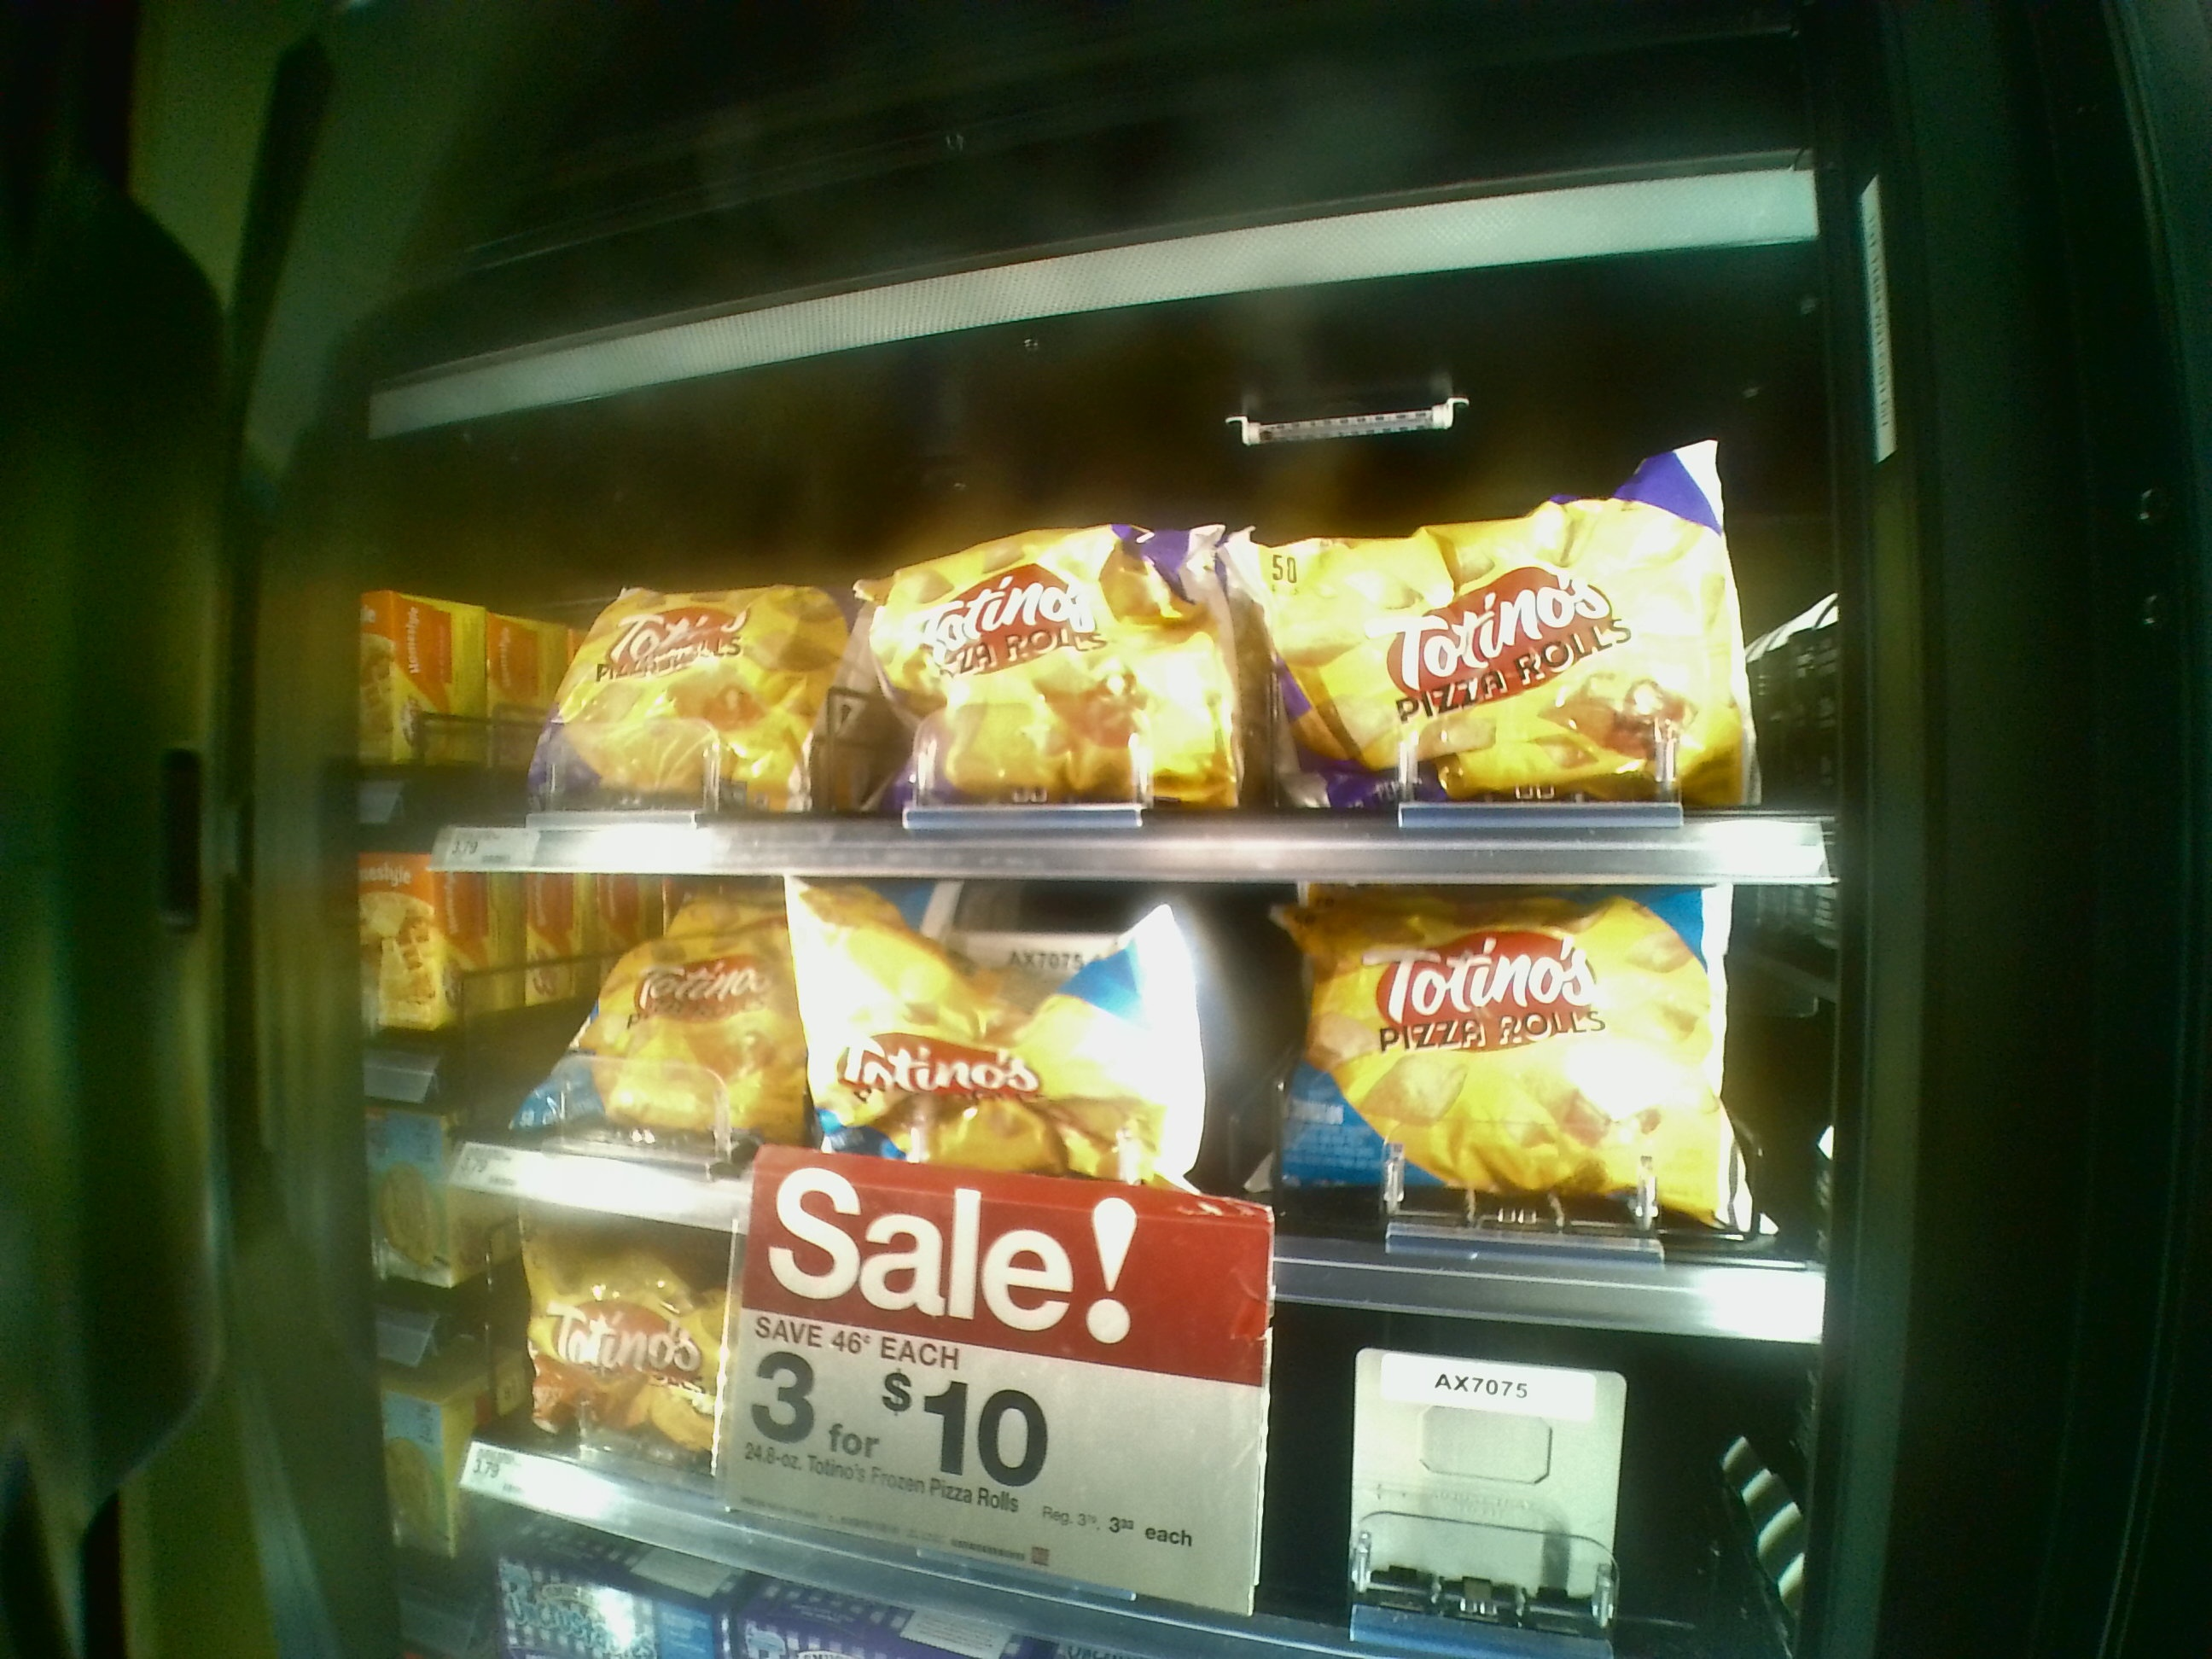shelf: (366, 850, 1825, 1347), (354, 423, 1838, 889)
